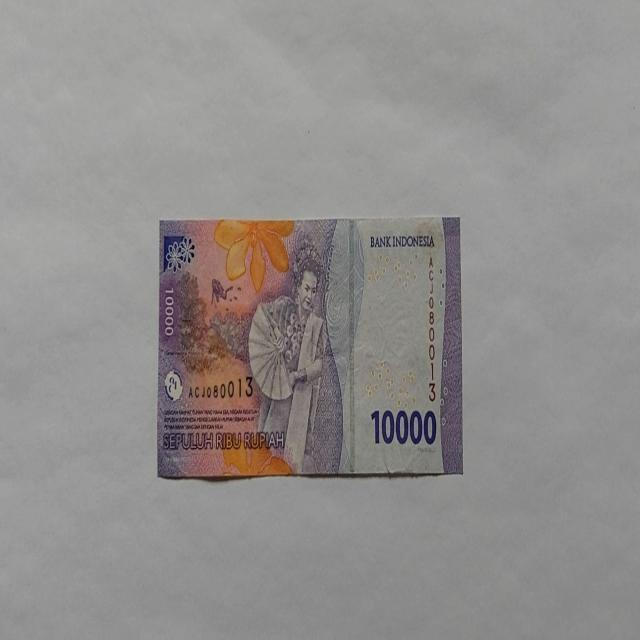sepuluh ribu rupiah: (156, 215, 462, 480)
